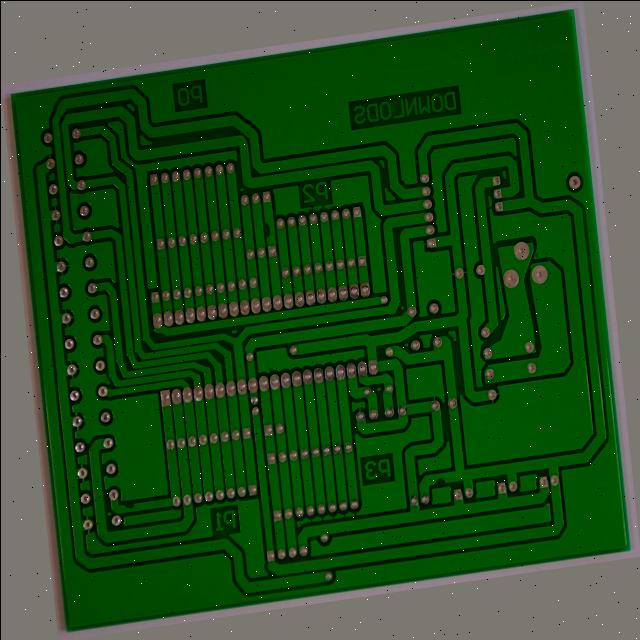mouse_bite: (83, 491, 100, 509), (267, 197, 279, 220), (423, 516, 440, 528)
